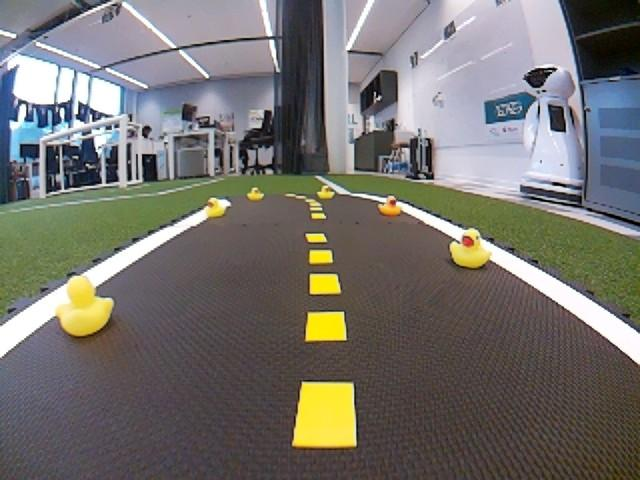Duckies: (55, 275, 116, 336), (447, 227, 492, 270), (377, 193, 405, 217), (317, 184, 335, 201), (208, 197, 224, 216), (248, 185, 263, 200)
